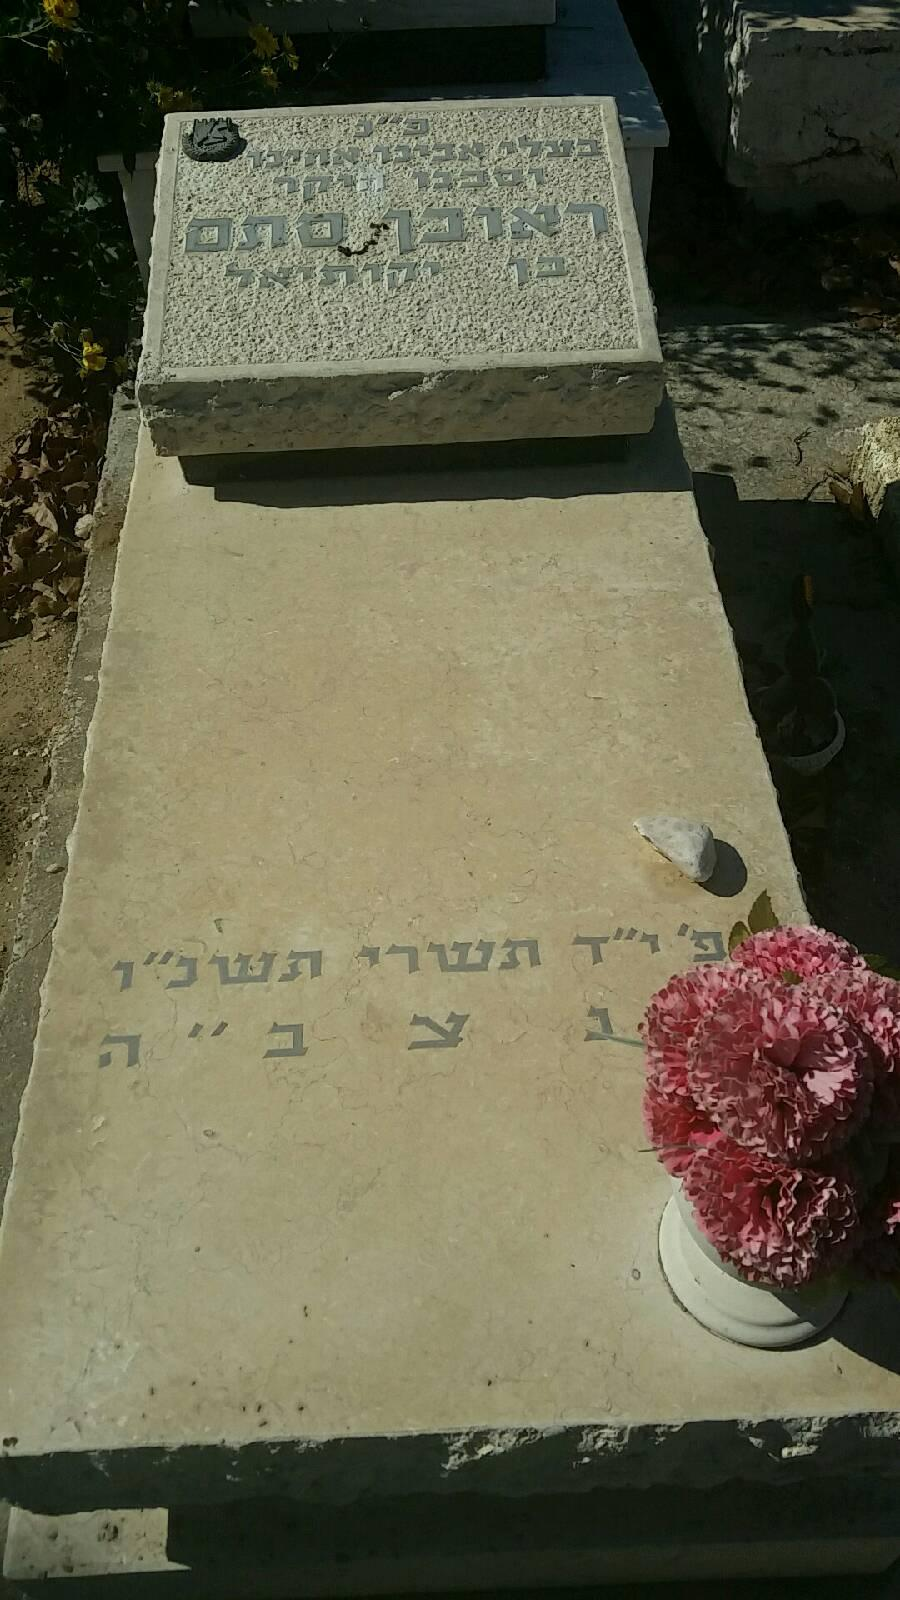vault: (9, 32, 867, 1584)
